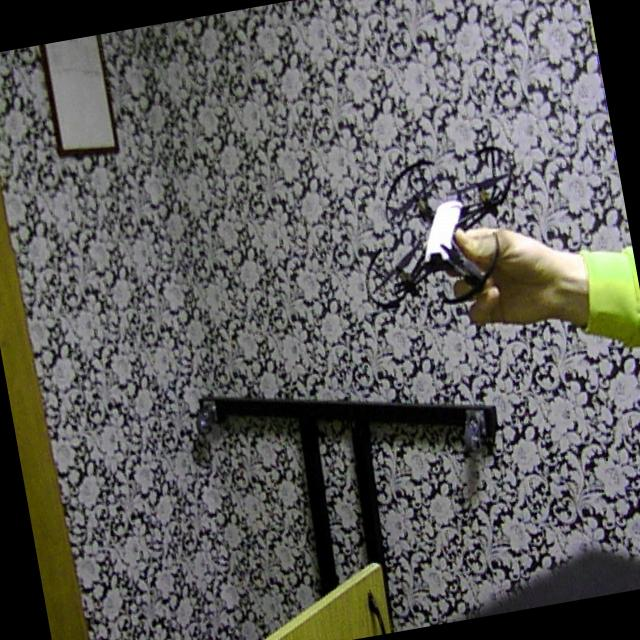drone: (336, 132, 542, 342)
